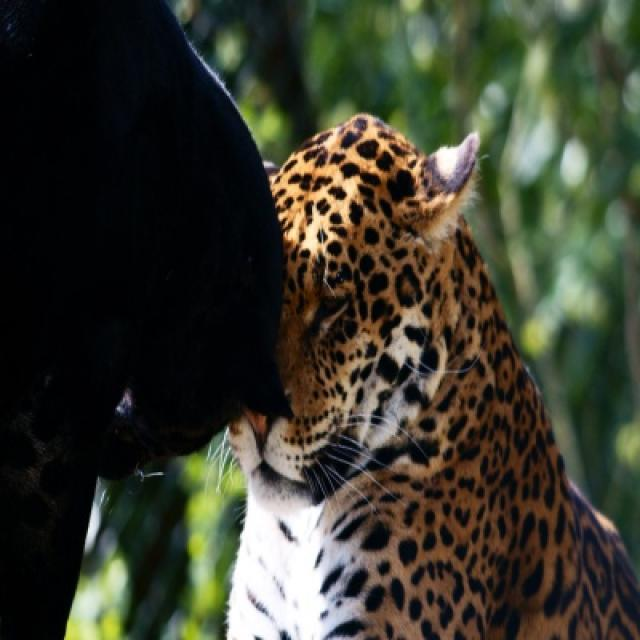Jaguar: (198, 87, 638, 638)
